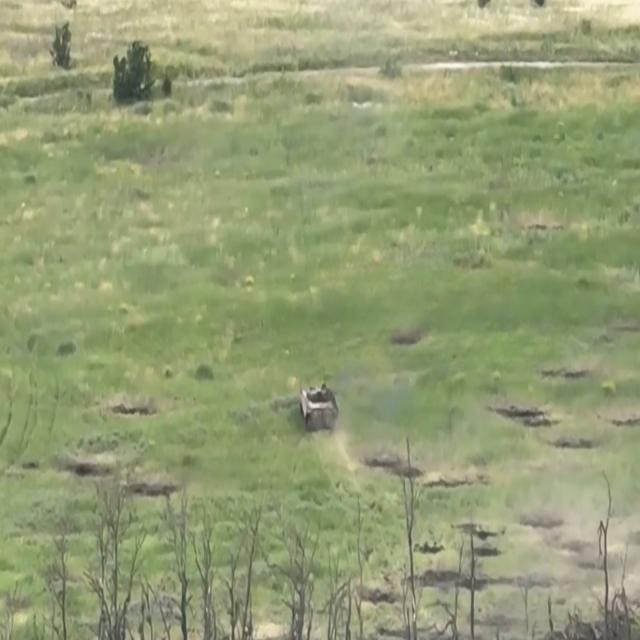AIFV: (299, 379, 341, 434)
